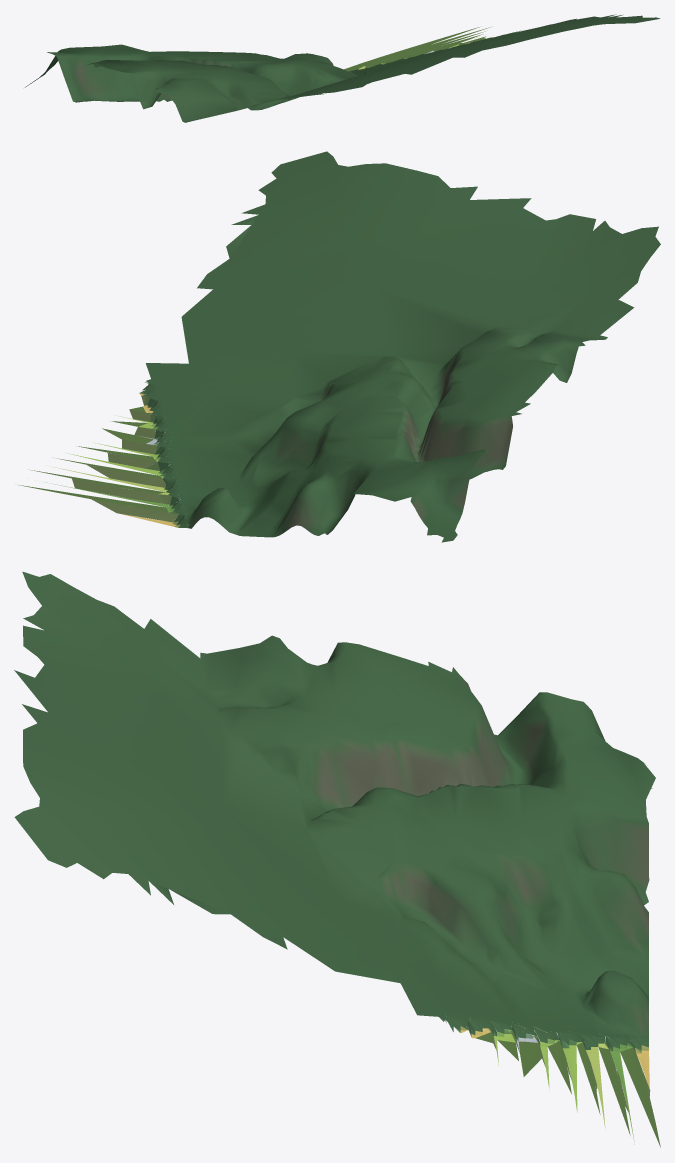
File: payo_land_xm4_y9_lod1.glb
3 views of the same model, one above another, from view 1: azimuth 30°, elevation 25°; view 2: azimuth 150°, elevation 25°; view 3: azimuth 270°, elevation 25° (orthographic). The views are drawn at different scales.
Parts seen in each view (by area): view 1: payo_land_xm4_y9; view 2: payo_land_xm4_y9; view 3: payo_land_xm4_y9.
Part boxes in pixels (x1,y1,x2,y2): payo_land_xm4_y9: (25, 14, 660, 122); payo_land_xm4_y9: (17, 151, 660, 542); payo_land_xm4_y9: (14, 571, 660, 1147).
Size of the model in its own units: 303 by 134 by 268.
